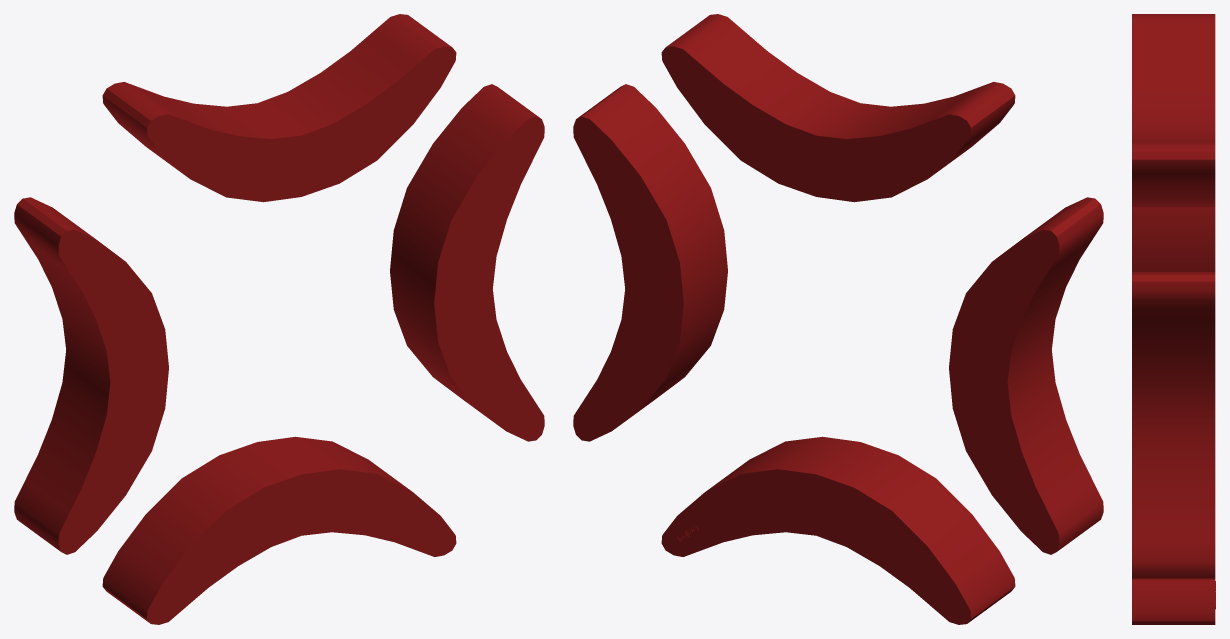
The model's file is anger_symbol.gltf.
3 views of the same model, side by side, from view 1: azimuth 30°, elevation 25°; view 2: azimuth 150°, elevation 25°; view 3: azimuth 270°, elevation 25° (orthographic). The views are drawn at different scales.
Parts seen in each view (by area): view 1: anger symbol; view 2: anger symbol; view 3: anger symbol.
Part boxes in pixels (box(x1,y1,x2,y2)): anger symbol: box(14, 14, 544, 624); anger symbol: box(573, 14, 1103, 624); anger symbol: box(1132, 14, 1215, 624).
Size of the model in its own units: 1.64 by 1.64 by 0.2605.
Materials: 1 (1 with a texture image).
